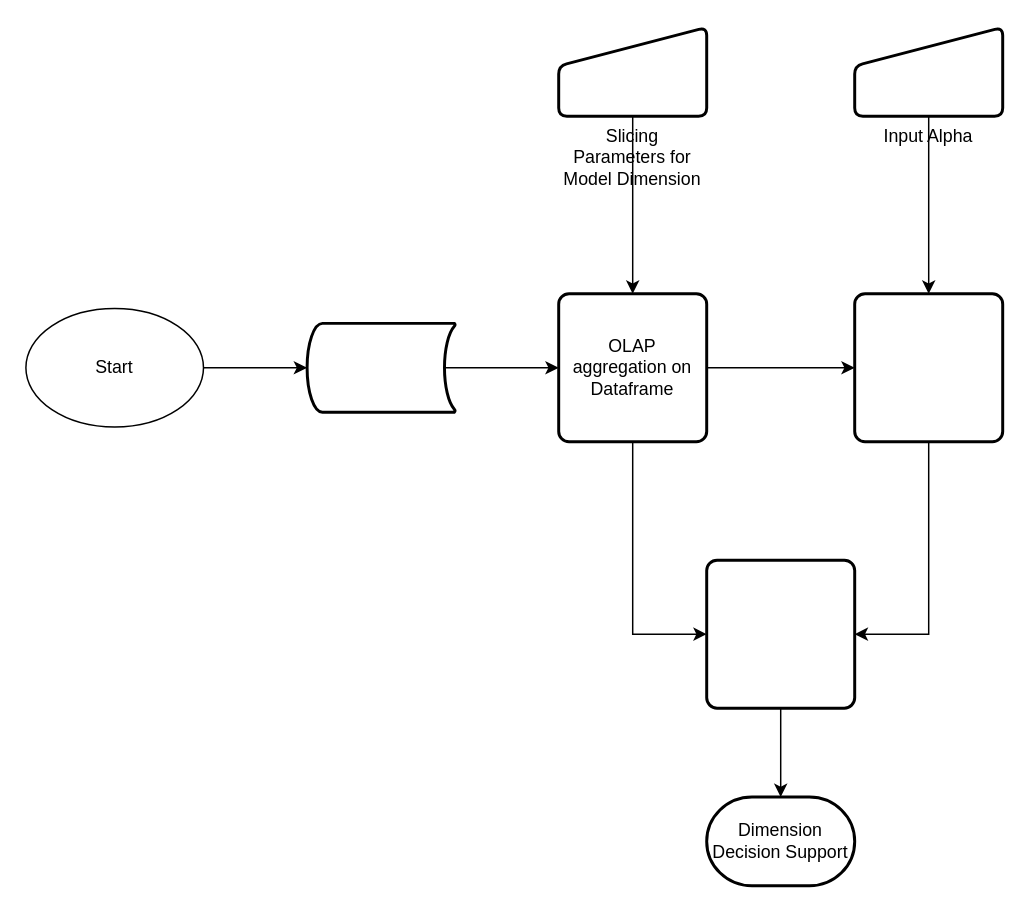
Some shapes in this 1030 by 912 pixel diagram are drawn without their labels. Here are the shapes that lost their labels. From the top down, the box of each, then its label:
(305, 321, 456, 413): Load Data from Excel into Dataframe
(852, 292, 1003, 443): Smoothing Function
(704, 558, 855, 709): Matplotlib Graphing
